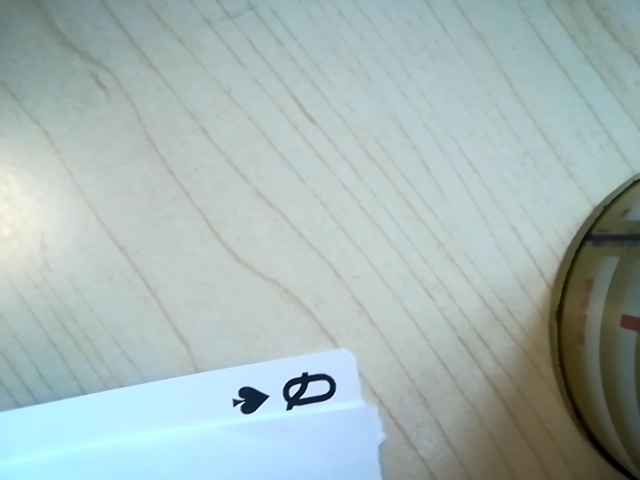ht q: (214, 358, 357, 430)
